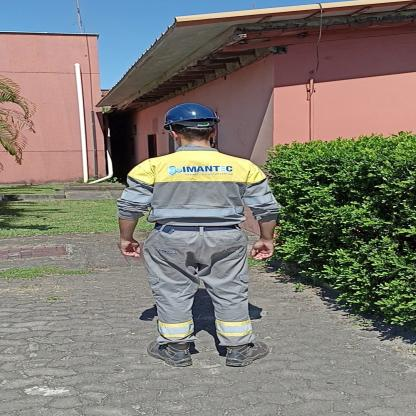Capacete: (163, 101, 219, 124)
